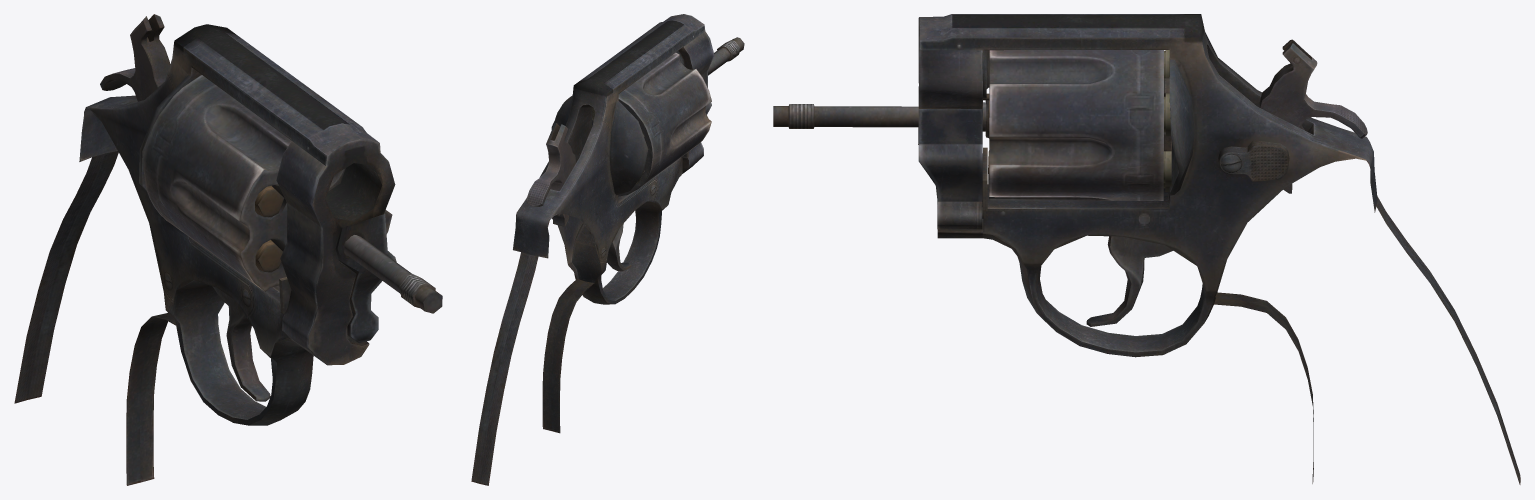
File: 44FireSingle.FBX
The picture shows the model from 3 angles, left to right: view 1: azimuth 30°, elevation 25°; view 2: azimuth 150°, elevation 25°; view 3: azimuth 270°, elevation 25°; orthographic projection. The views are drawn at different scales.
Visible parts, largest first — view 1: 44MagnumReceiver:0, 44MagnumCylinder:0, 44 MagnumGate:0, 44MagnumHammer:0, 44MagnumEjector:0, 44MagnumTrigger:0, 44MagnumBullets:0; view 2: 44MagnumReceiver:0, 44MagnumCylinder:0, 44MagnumHammer:0, 44MagnumEjector:0, 44MagnumTrigger:0; view 3: 44MagnumReceiver:0, 44MagnumCylinder:0, 44 MagnumGate:0, 44MagnumHammer:0, 44MagnumEjector:0, 44MagnumTrigger:0, 44 MagnumBoltLatch:0, 44MagnumBulletCase:0.
Part boxes in pixels (x1,y1,x2,y2): 44MagnumReceiver:0: (14,24,395,485); 44MagnumCylinder:0: (143,75,392,292); 44 MagnumGate:0: (335,213,396,343); 44MagnumHammer:0: (100,14,170,101); 44MagnumEjector:0: (344,235,442,313); 44MagnumTrigger:0: (212,286,270,401); 44MagnumBullets:0: (255,185,284,272); 44MagnumReceiver:0: (471,14,714,485); 44MagnumCylinder:0: (555,52,711,196); 44MagnumHammer:0: (526,123,575,226); 44MagnumEjector:0: (708,37,744,75); 44MagnumTrigger:0: (589,224,631,271); 44MagnumReceiver:0: (918,14,1520,484); 44MagnumCylinder:0: (985,50,1163,200); 44 MagnumGate:0: (918,93,982,229); 44MagnumHammer:0: (1259,39,1367,193); 44MagnumEjector:0: (773,102,986,131); 44MagnumTrigger:0: (1086,236,1173,326); 44 MagnumBoltLatch:0: (1218,140,1289,181); 44MagnumBulletCase:0: (1163,50,1171,191).
Size of the model in its own units: 3.62 by 11.13 by 16.33.
